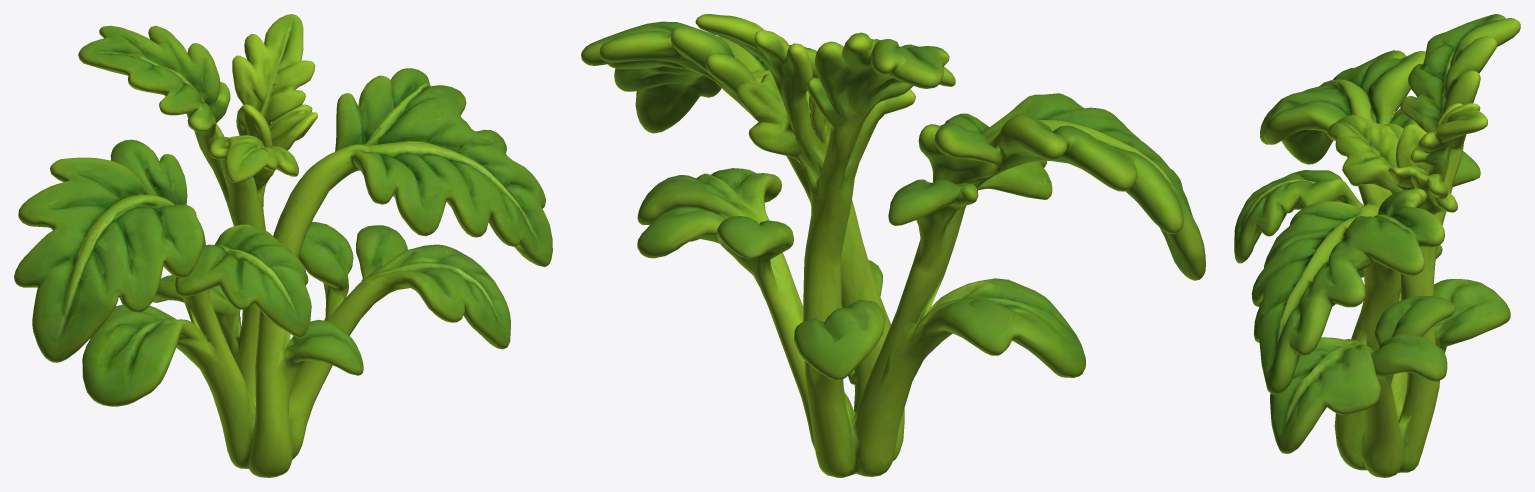
File: tomato-sprout.glb
The picture shows the model from 3 angles, left to right: view 1: azimuth 30°, elevation 25°; view 2: azimuth 150°, elevation 25°; view 3: azimuth 270°, elevation 25°; orthographic projection. The views are drawn at different scales.
Size of the model in its own units: 1.9 by 1.5 by 0.9611.
1 material, 1 textured.
